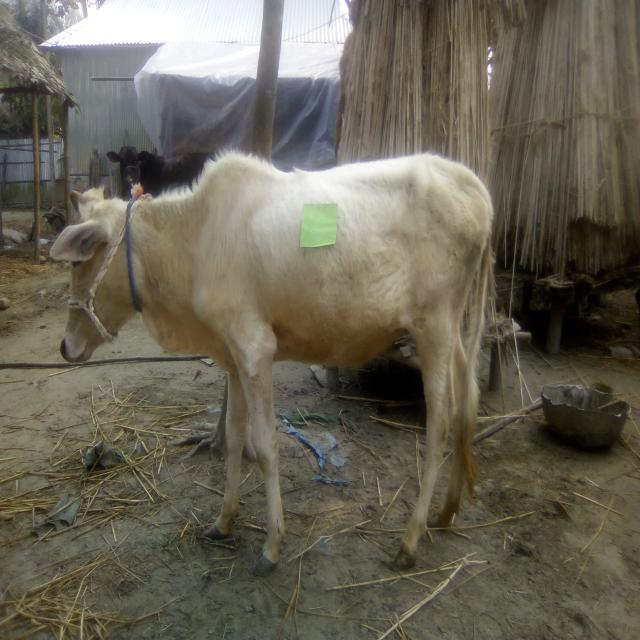badan_sapi: (205, 156, 488, 372)
sapi: (44, 145, 502, 578)
